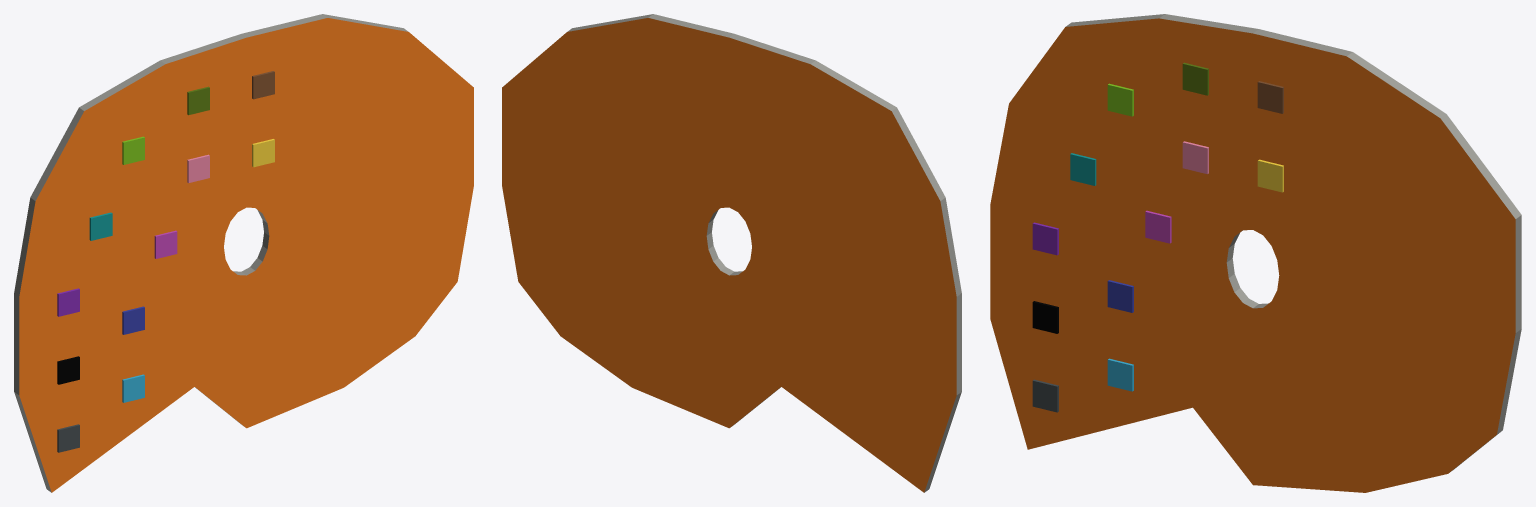
Rendered from item_palette12.obj.
3 views of the same model, side by side, from view 1: azimuth 30°, elevation 25°; view 2: azimuth 150°, elevation 25°; view 3: azimuth 330°, elevation 25° (orthographic). The views are drawn at different scales.
Visible parts, largest first — view 1: wooden_palette_with_open_thumb_hole_and_grip_notch, native_cumulative_paint_state; view 2: wooden_palette_with_open_thumb_hole_and_grip_notch; view 3: wooden_palette_with_open_thumb_hole_and_grip_notch, native_cumulative_paint_state.
Boxes of the visible parts, bbox=[...] form: wooden_palette_with_open_thumb_hole_and_grip_notch: bbox=[14, 14, 473, 492]; native_cumulative_paint_state: bbox=[57, 71, 274, 452]; wooden_palette_with_open_thumb_hole_and_grip_notch: bbox=[502, 14, 961, 492]; wooden_palette_with_open_thumb_hole_and_grip_notch: bbox=[990, 14, 1521, 492]; native_cumulative_paint_state: bbox=[1032, 62, 1283, 412].
Bounding box in the file's own units: 0.875 × 0.75 × 0.0219.
